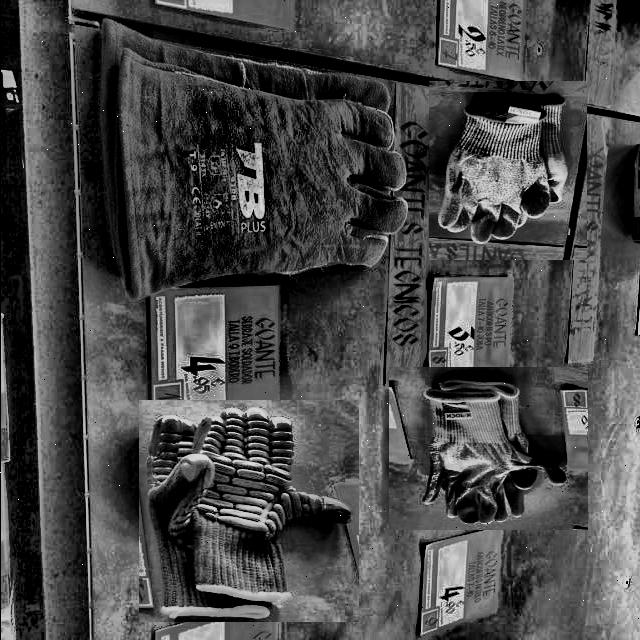gloved: (101, 30, 409, 305), (137, 400, 359, 622), (396, 358, 578, 540), (422, 86, 592, 254)
